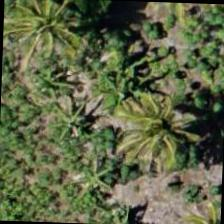Kelapa_Sawit: (118, 1, 211, 94), (116, 78, 209, 170), (2, 0, 90, 63)
